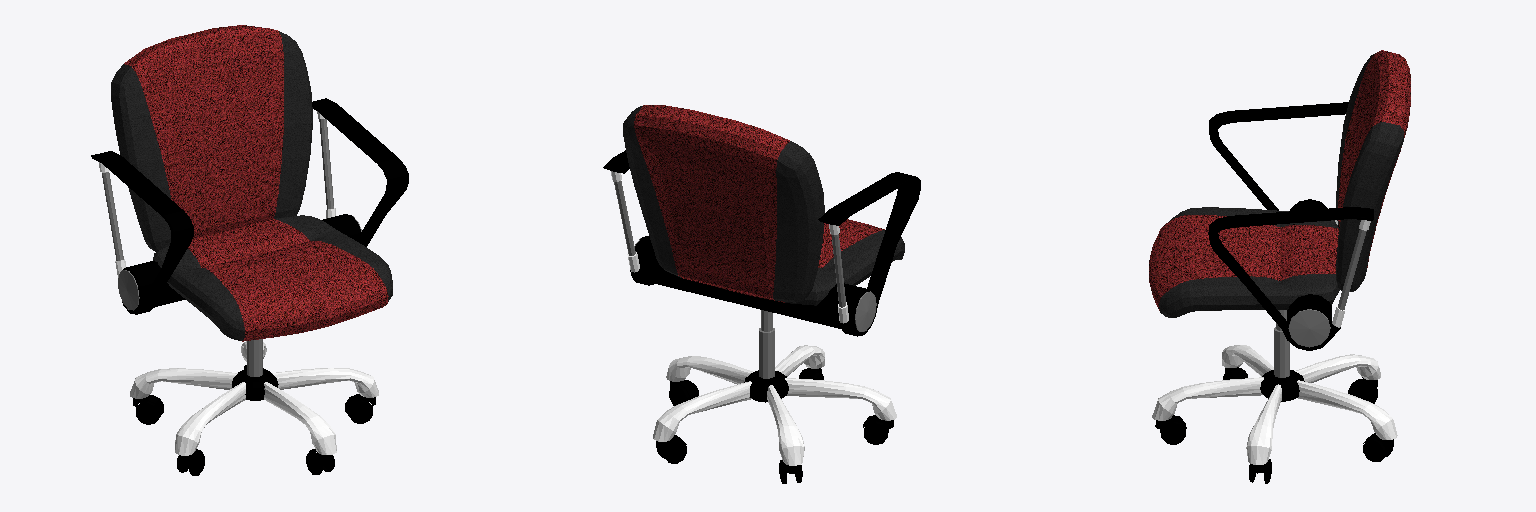
3 renders of one model, left to right at view 1: azimuth 30°, elevation 25°; view 2: azimuth 150°, elevation 25°; view 3: azimuth 270°, elevation 25°, orthographic.
Size of the model in its own units: 0.5995 by 0.8779 by 0.578.
6 materials, 3 textured.